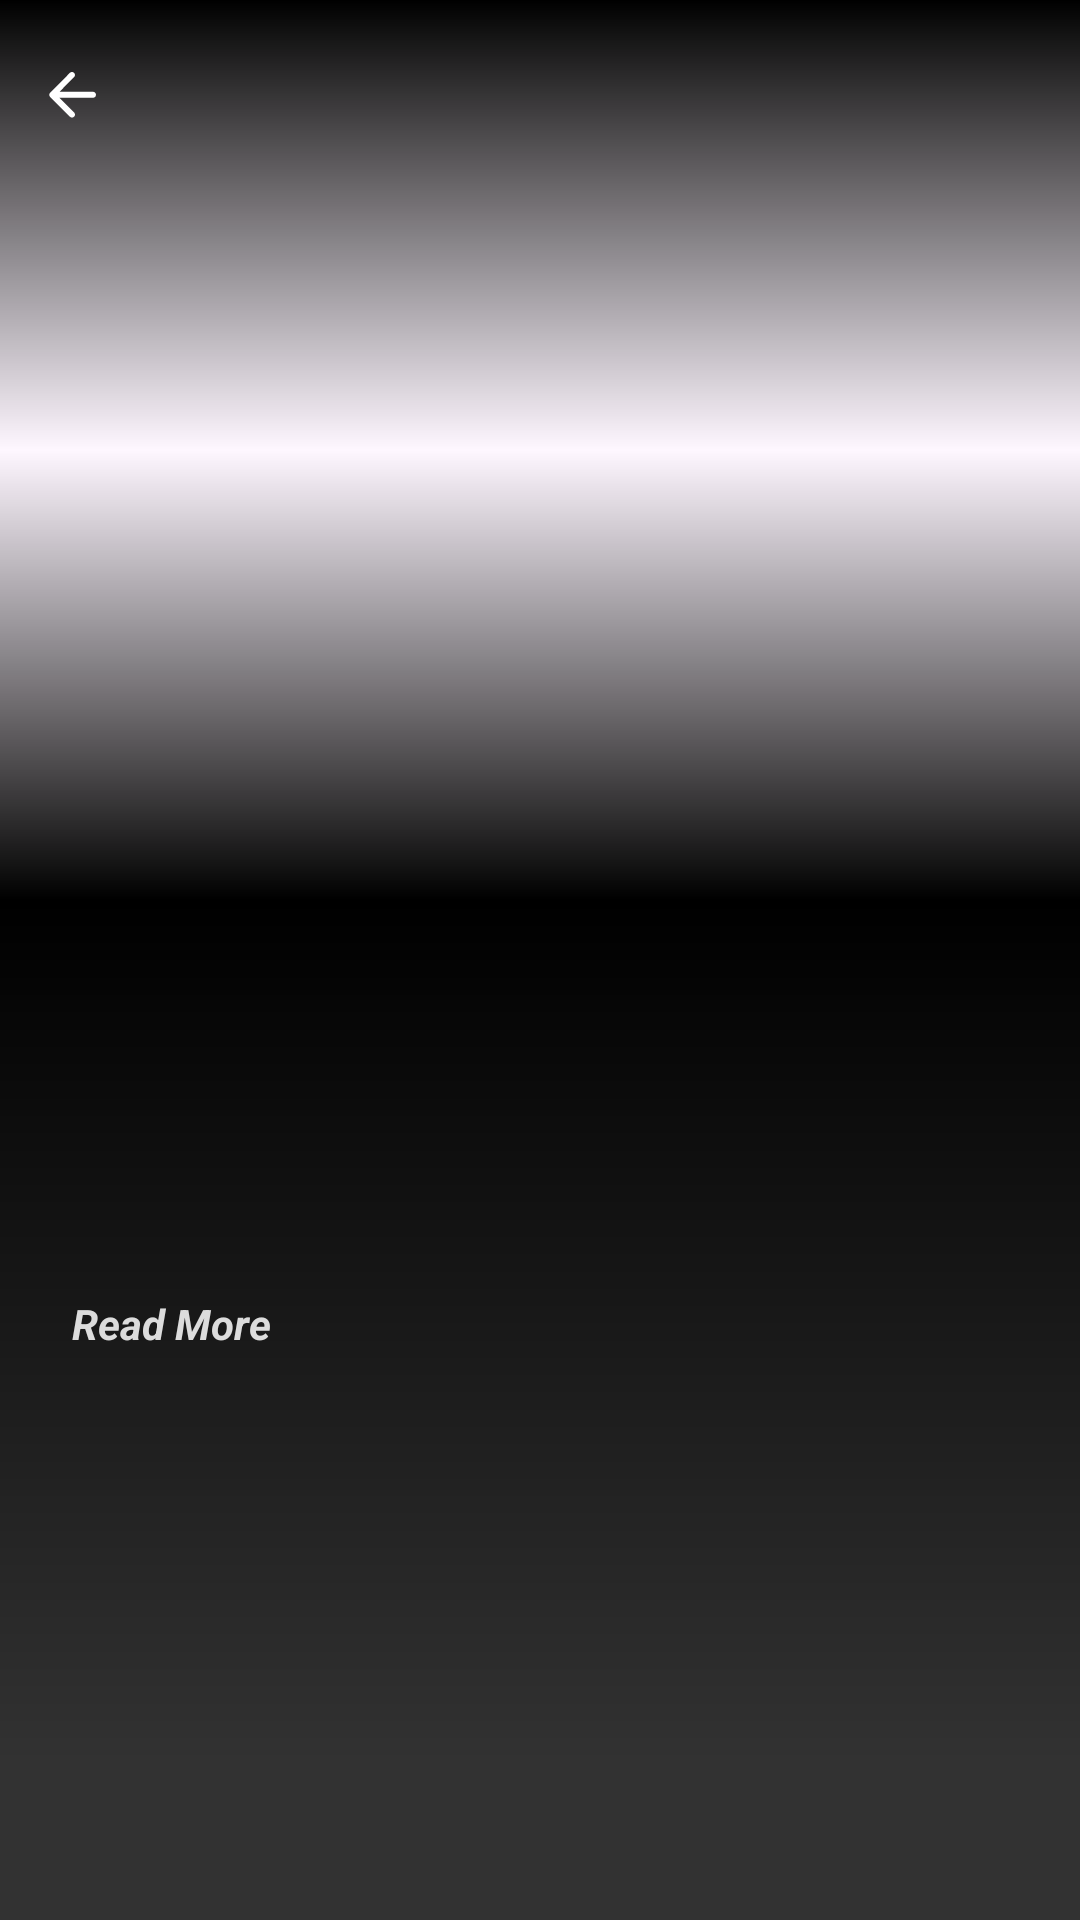

Screen size 1080px x 1920px. Icon name, then its center in pixels as point (x, y):
tool bar back: point (72, 95)
